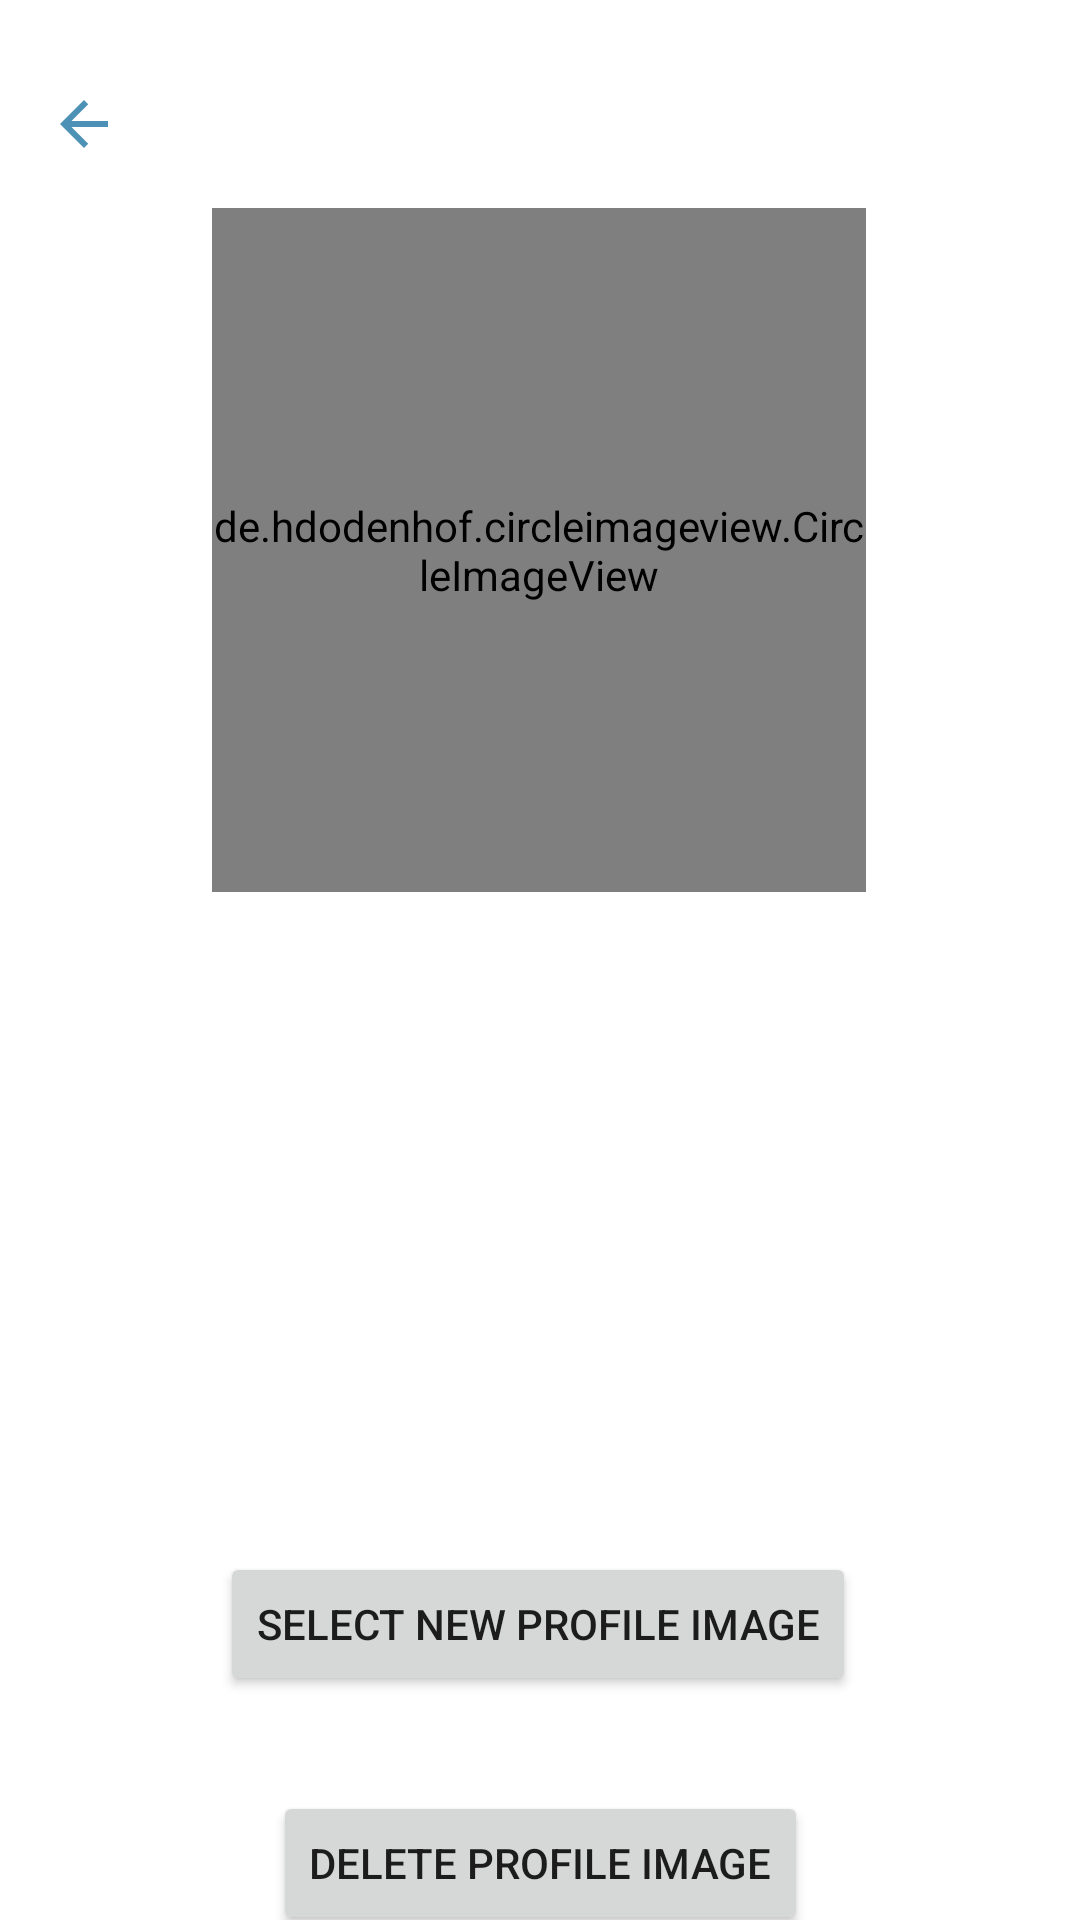

Screen size 1080 × 1920. Icon name, then its box in pixels as bbox=[x1, y1, x2, y2]:
Return to previous page: bbox=[60, 100, 108, 148]
